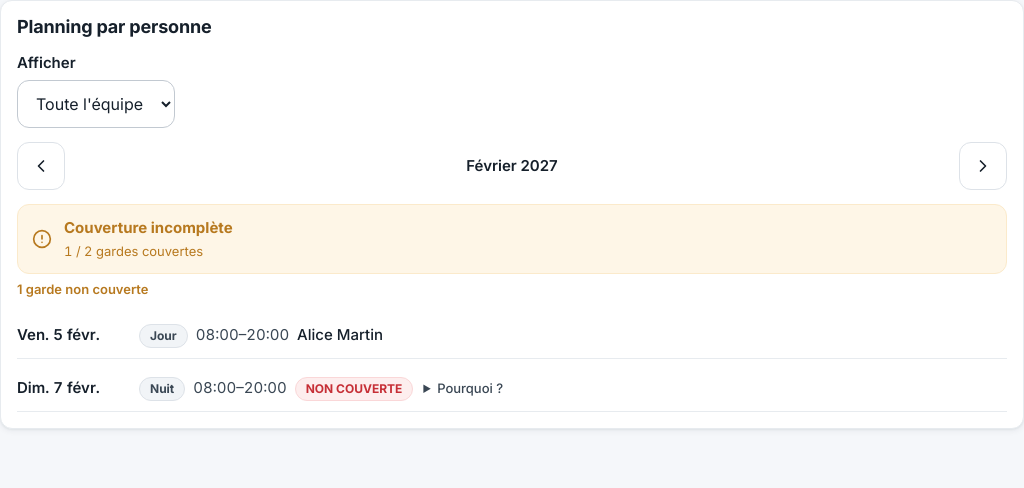
it: PersonalPlanningView — whole team (generated result) › shows an incomplete coverage and an uncovered duty with its real reasons
Expected: the text "Couverture incomplète" is shown, [64,217,233,240]
Expected: the text "1 / 2 gardes couvertes" is shown, [64,243,203,259]
Click the heading "Pourquoi ?".
click(470, 388)  # box [437,380,503,396]
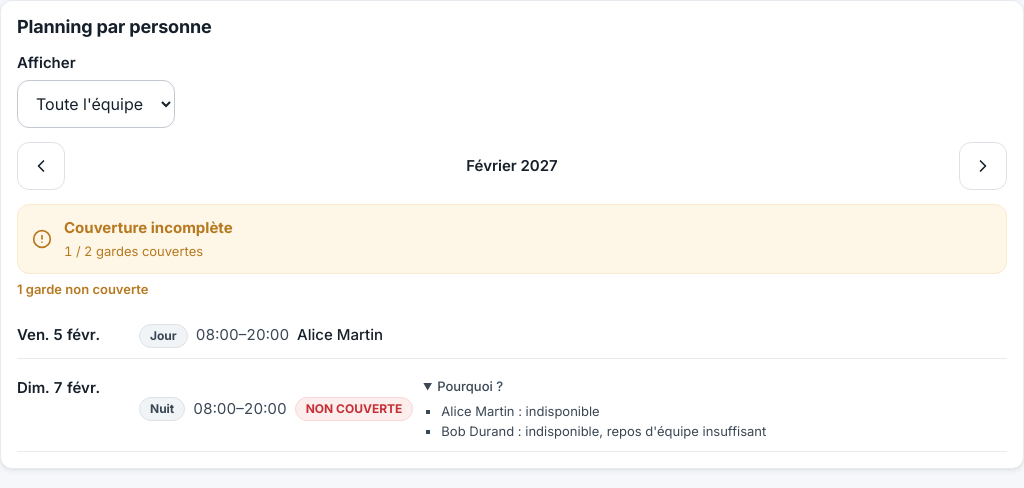
Expected: the list item "Alice Martin : indisponible" is shown, [441,403,600,419]
Expected: the list item "Bob Durand : indisponible, repos d'équipe insuffisant" is shown, [441,422,766,441]
